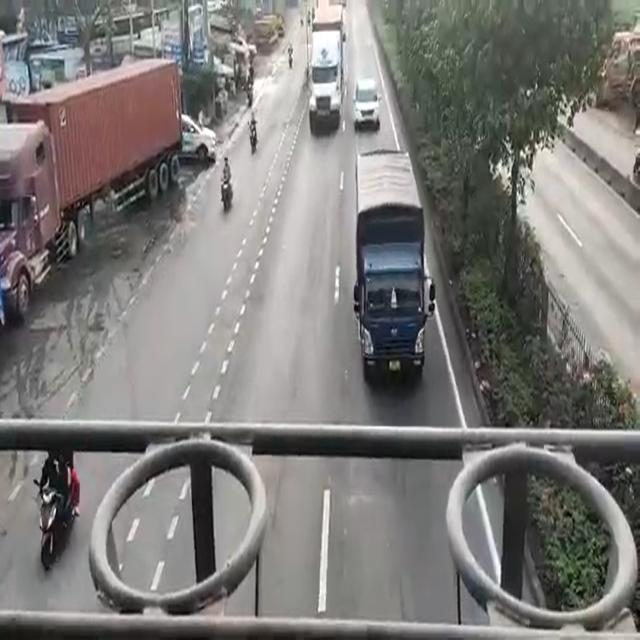car: (357, 82, 377, 137)
motor: (31, 475, 67, 577), (218, 160, 232, 210)
truck: (0, 54, 178, 293), (351, 153, 432, 382), (309, 6, 342, 136)
